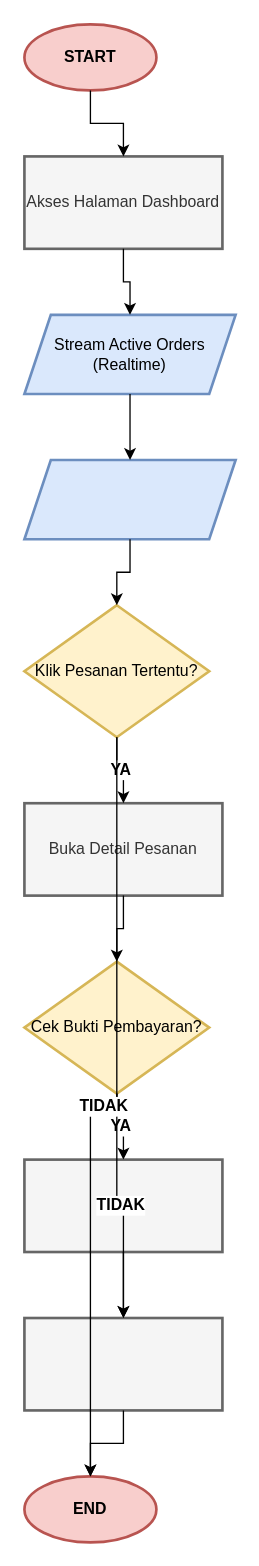
Some shapes in this 259 by 1566 pixel diagram are drawn without their labels. Here are the shapes that lost their labels. From the top down, the box of each, then its label:
(22, 458, 236, 540): Pantau Ringkasan Penjualan
(22, 1158, 223, 1253): Tampilkan Bukti (Dialog)
(22, 1316, 223, 1411): Review Alamat via Maps
